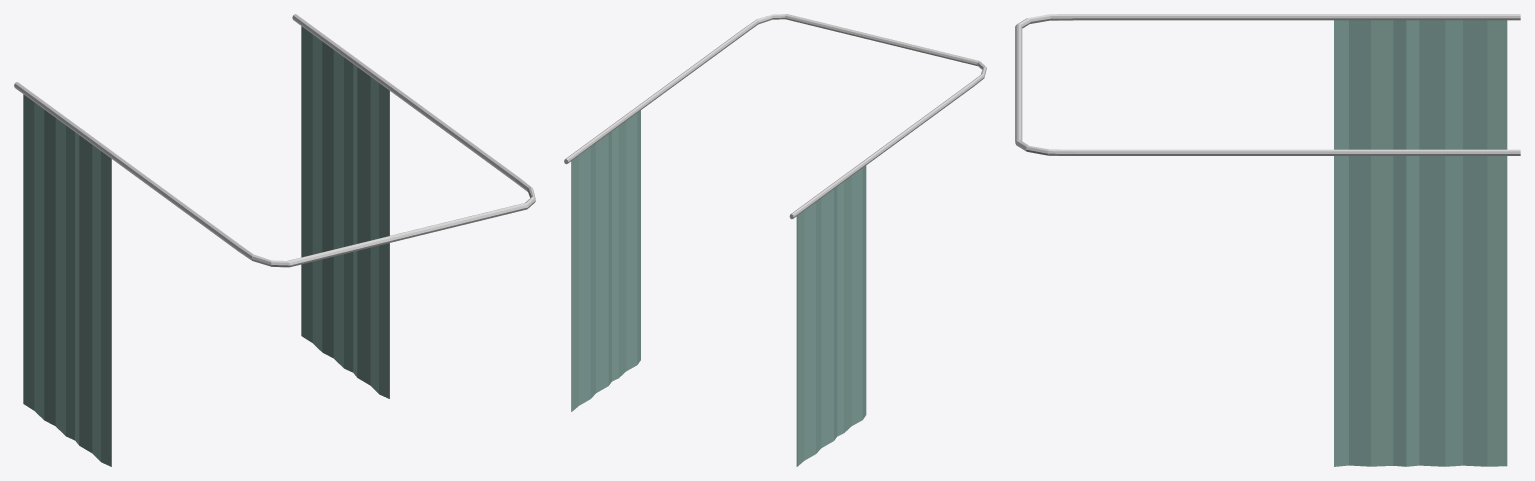
The model's file is H_Curtain_2.fbx.
3 renders of one model, left to right at view 1: azimuth 30°, elevation 25°; view 2: azimuth 150°, elevation 25°; view 3: azimuth 270°, elevation 25°, orthographic. The views are drawn at different scales.
Visible parts, largest first — view 1: H_Curtain_2; view 2: H_Curtain_2; view 3: H_Curtain_2.
Part boxes in pixels (bbox=[...]): H_Curtain_2: bbox=[14, 14, 535, 466]; H_Curtain_2: bbox=[564, 14, 986, 466]; H_Curtain_2: bbox=[1015, 14, 1520, 466].
Size of the model in its own units: 1157 by 1789 by 1236.
